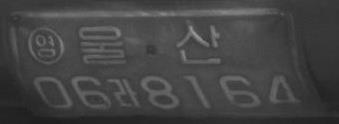0: (31, 75, 72, 110)
1: (182, 74, 216, 108)
4: (266, 73, 302, 108)
6: (217, 73, 261, 110), (73, 74, 111, 110)
8: (142, 73, 181, 110)
라: (112, 77, 142, 109)
영: (26, 26, 65, 66)
울산_D: (78, 23, 221, 66)
